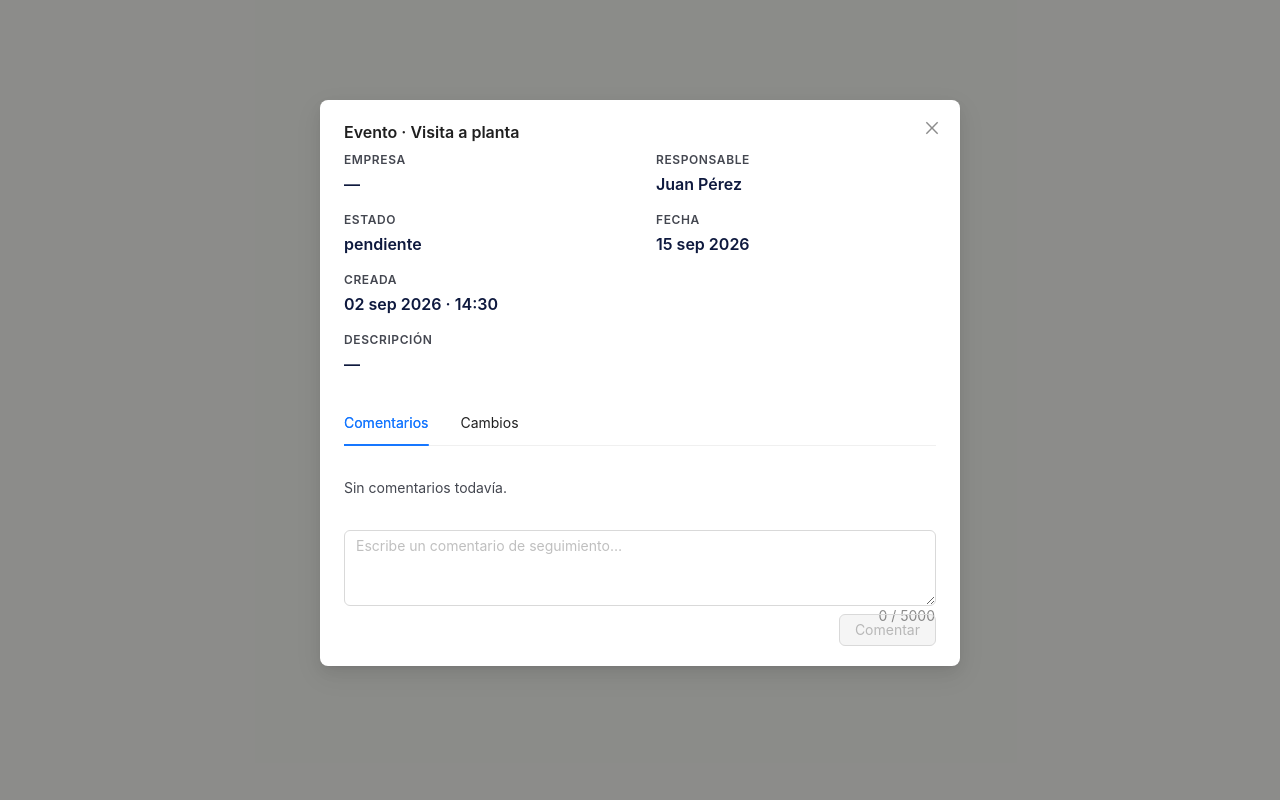
Test: ActividadDetalleModal › la pestaña de cambios pide la auditoría solo al abrirla
Click the tab "Cambios" at (489, 423), box [460,412,518,434]
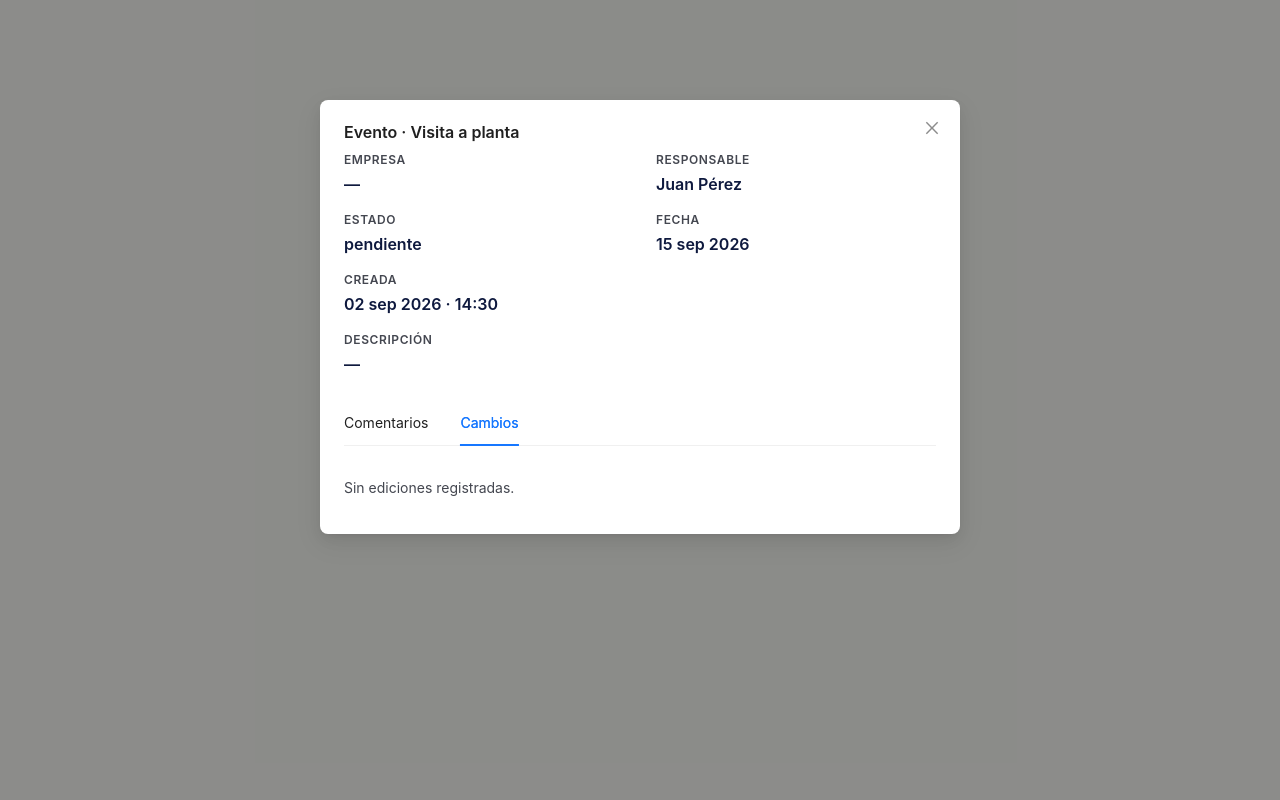
Check: the text "Sin ediciones registradas." is shown, box [344,479,514,496]
